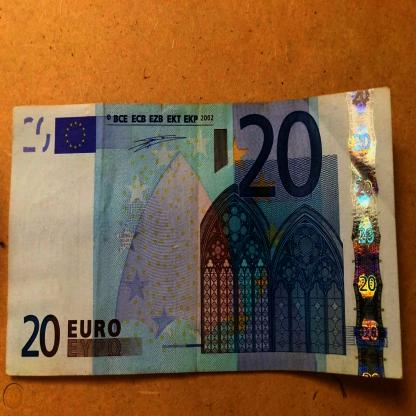euro_banknote: (6, 86, 404, 378)
